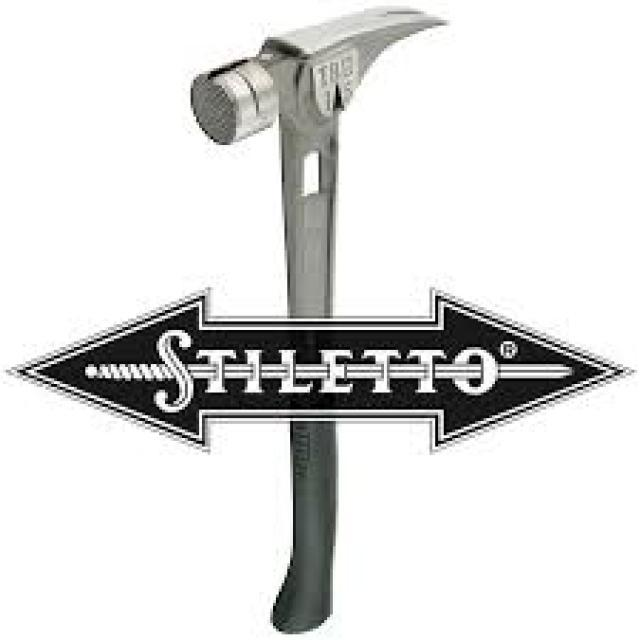Palu: (180, 17, 430, 335)
